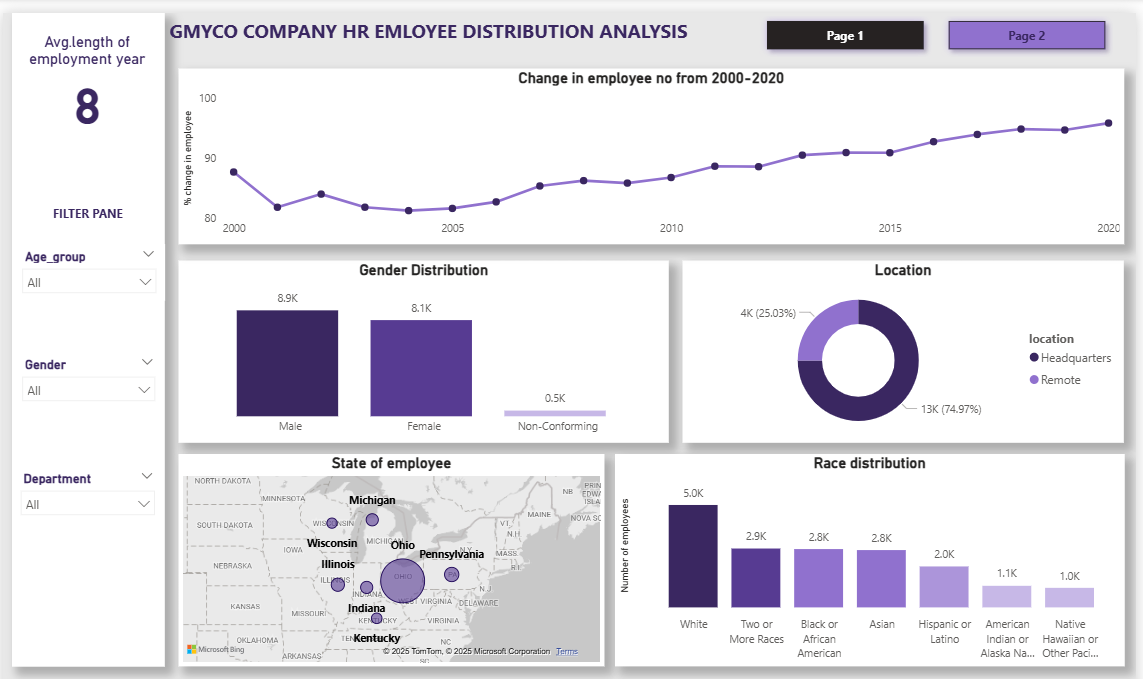

Layout of this report page (visuals, bound fields, positions):
{"tool":"powerbi","page":{"name":"Page 1","canvas":[1280,1500],"ordinal":0},"visuals":[{"type":"textbox","box":[10.2,0,172.9,739],"z":0},{"type":"textbox","box":[182.9,0,602.9,45.7],"z":1000},{"type":"card","title":"Avg.length of employment year","fields":{"Values":["Sum(AVG_LENGTH_EMPLOYMENT.avg_length_employment)"]},"box":[14.3,22.9,162.9,114.3],"z":2000},{"type":"clusteredColumnChart","title":"Gender Distribution","fields":{"Y":["Sum(GENDER.count)"],"Category":["GENDER.gender"]},"box":[198.6,280,554.3,205.7],"z":3000},{"type":"donutChart","title":"Location","fields":{"Y":["Sum(LOCATION.count)"],"Category":["LOCATION.location"]},"box":[768.6,280,498.6,205.7],"z":4000},{"type":"lineChart","title":"Change in employee no from 2000-2020","fields":{"Category":["NET_CHANGE.year"],"Y":["Sum(NET_CHANGE.net_change_percentage)"]},"box":[198.6,62.9,1068.6,198.6],"z":5000},{"type":"map","title":"State of employee","fields":{"Size":["Sum(STATES.count)"],"Category":["STATES.location_state"]},"box":[198.6,498.6,481.4,240],"z":6000},{"type":"clusteredColumnChart","title":"Race distribution","fields":{"Y":["Sum(RACE.count)"],"Category":["RACE.race"]},"box":[691.4,498.6,575.7,240],"z":7000},{"type":"textbox","box":[24.3,211.4,144.3,37.1],"z":8000},{"type":"slicer","fields":{"Values":["AGE GROUP.age_group"]},"box":[11.4,261.4,171.4,64.3],"z":9000},{"type":"slicer","fields":{"Values":["GENDER.gender"]},"box":[11.4,382.9,170,72.9],"z":10000},{"type":"slicer","fields":{"Values":["GENDER_DEPARTMENT.department"]},"box":[10,511.4,171.4,77.1],"z":11000},{"type":"pageNavigator","box":[854.5,0,400,50],"z":11001}]}

Visuals, with their boxes on the page's 1280x1500 design canvas (x1, y1, x2, y2). These are canvas units, not pixel positions in the 1143x679 screenshot, which may show the page scaled, cropped or inside an application window:
textbox: <bbox>10, 0, 183, 739</bbox>
textbox: <bbox>183, 0, 786, 46</bbox>
"Avg.length of employment year" card: <bbox>14, 23, 177, 137</bbox>
"Gender Distribution" clusteredColumnChart: <bbox>199, 280, 753, 486</bbox>
"Location" donutChart: <bbox>769, 280, 1267, 486</bbox>
"Change in employee no from 2000-2020" lineChart: <bbox>199, 63, 1267, 262</bbox>
"State of employee" map: <bbox>199, 499, 680, 739</bbox>
"Race distribution" clusteredColumnChart: <bbox>691, 499, 1267, 739</bbox>
textbox: <bbox>24, 211, 169, 248</bbox>
slicer - AGE GROUP.age_group: <bbox>11, 261, 183, 326</bbox>
slicer - GENDER.gender: <bbox>11, 383, 181, 456</bbox>
slicer - GENDER_DEPARTMENT.department: <bbox>10, 511, 181, 588</bbox>
pageNavigator: <bbox>854, 0, 1254, 50</bbox>
